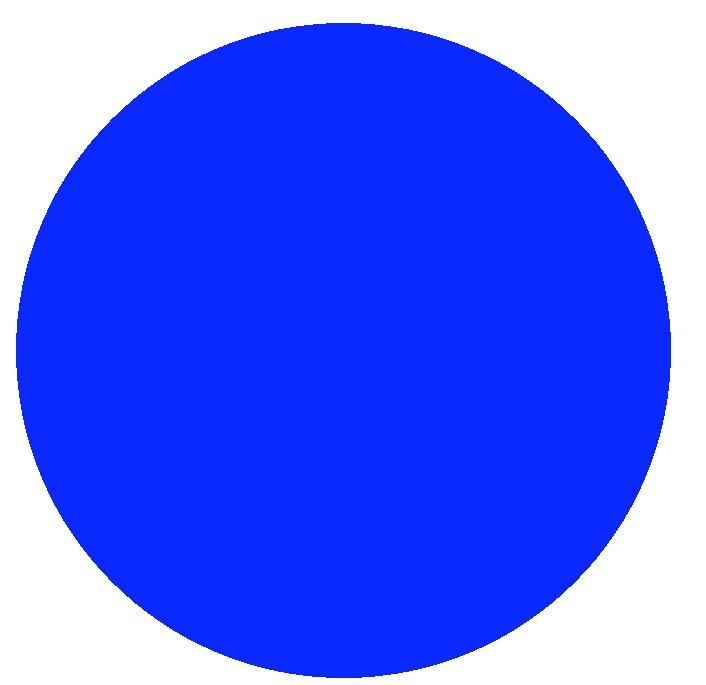blue_circle: (5, 12, 685, 685)
